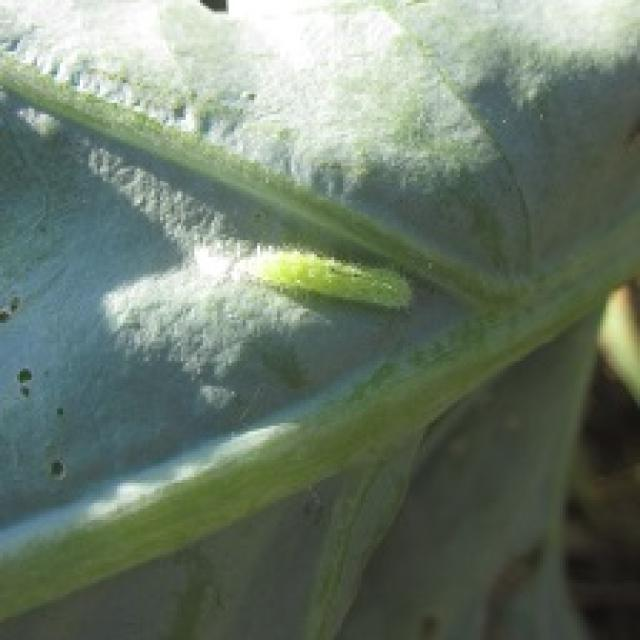Cabbage-worm: (234, 221, 418, 336)
